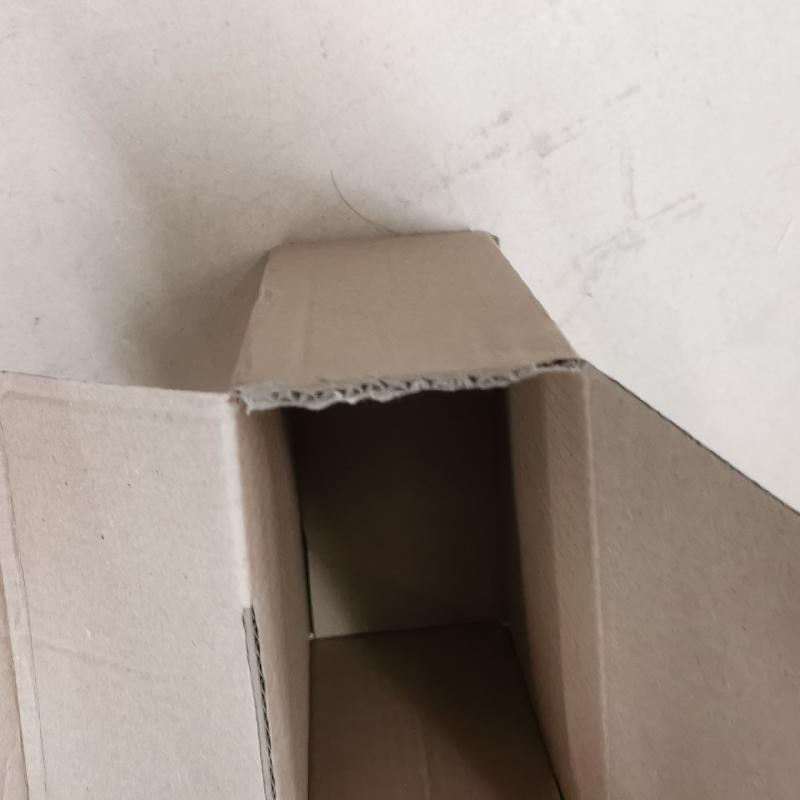boxes: (22, 227, 800, 800)
